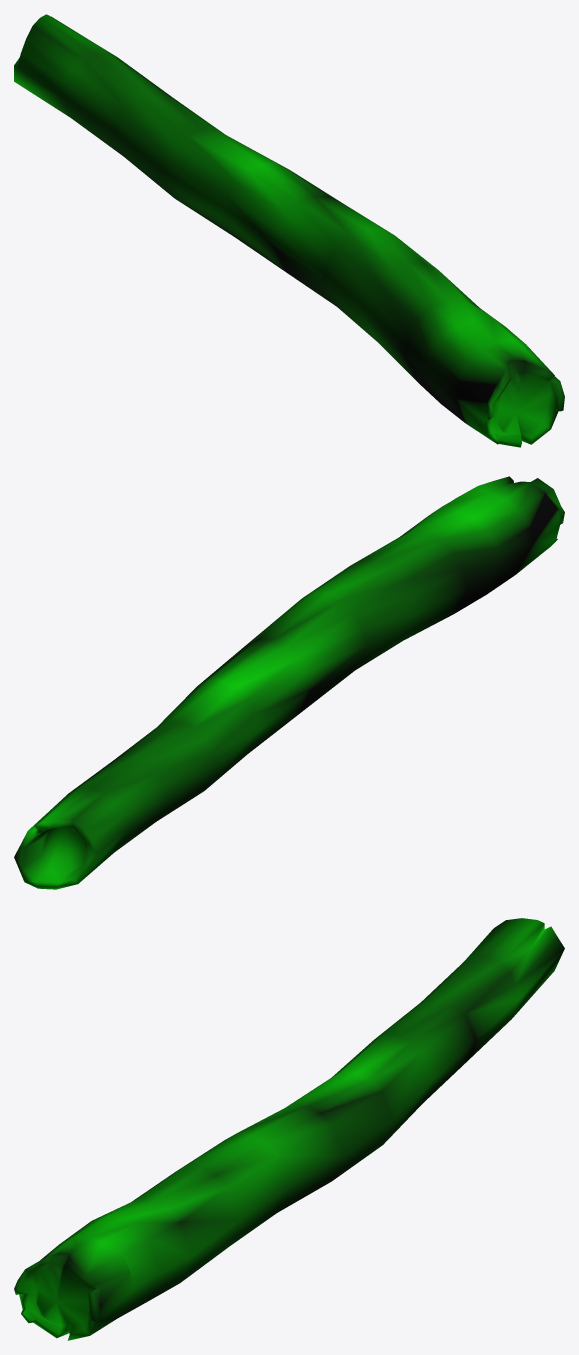
The model's file is SM_PalmFallen02.fbx.
3 renders of one model, top to bottom at view 1: azimuth 30°, elevation 25°; view 2: azimuth 150°, elevation 25°; view 3: azimuth 330°, elevation 25°, orthographic. The views are drawn at different scales.
Visible parts, largest first — view 1: SM_PalmFallen02; view 2: SM_PalmFallen02; view 3: SM_PalmFallen02.
Boxes of the visible parts, x1,y1,x2,y2 form: SM_PalmFallen02: (14, 14, 564, 447); SM_PalmFallen02: (14, 476, 564, 889); SM_PalmFallen02: (14, 918, 564, 1340).
Size of the model in its own units: 94.85 by 82.81 by 811.
